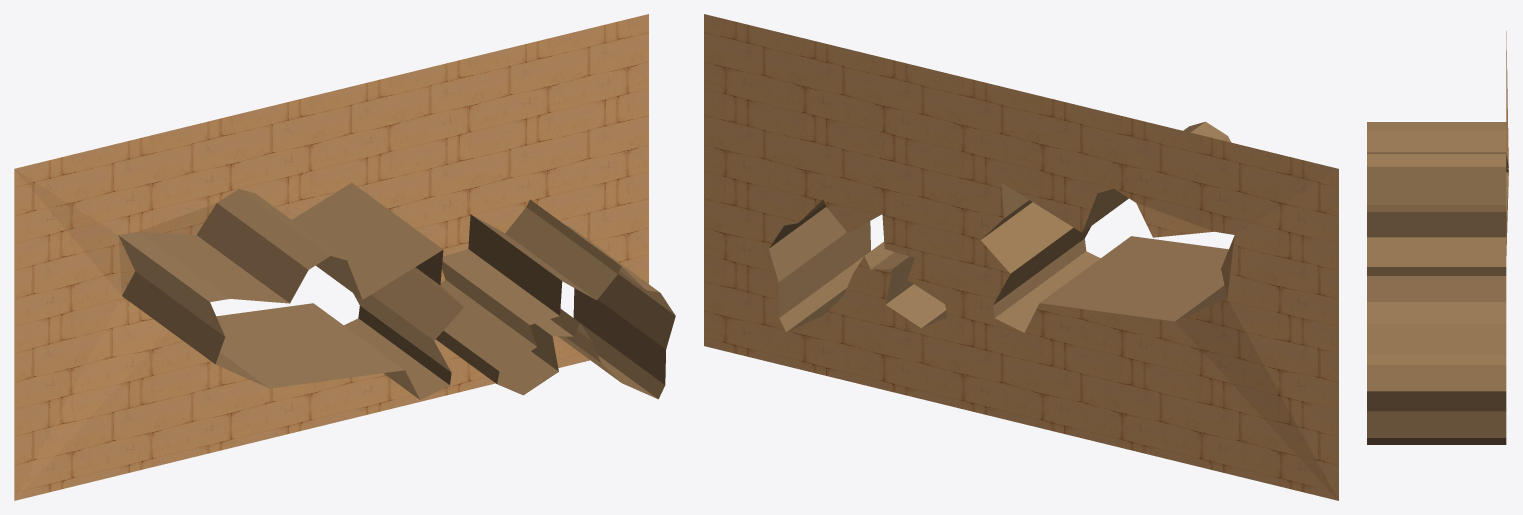
File: Hole_4x2.fbx
3 views of the same model, side by side, from view 1: azimuth 30°, elevation 25°; view 2: azimuth 150°, elevation 25°; view 3: azimuth 270°, elevation 25° (orthographic). The views are drawn at different scales.
Visible parts, largest first — view 1: Hole_4x2; view 2: Hole_4x2; view 3: Hole_4x2.
Boxes of the visible parts, x1,y1,x2,y2 form: Hole_4x2: (14, 14, 675, 500); Hole_4x2: (704, 14, 1338, 500); Hole_4x2: (1367, 31, 1508, 444).
Bounding box in the file's own units: 400 × 200 × 102.
